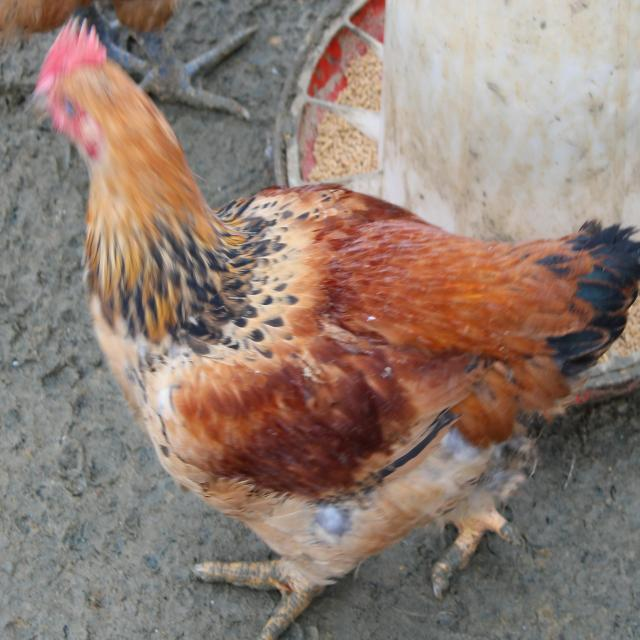hen: (240, 323, 243, 326)
